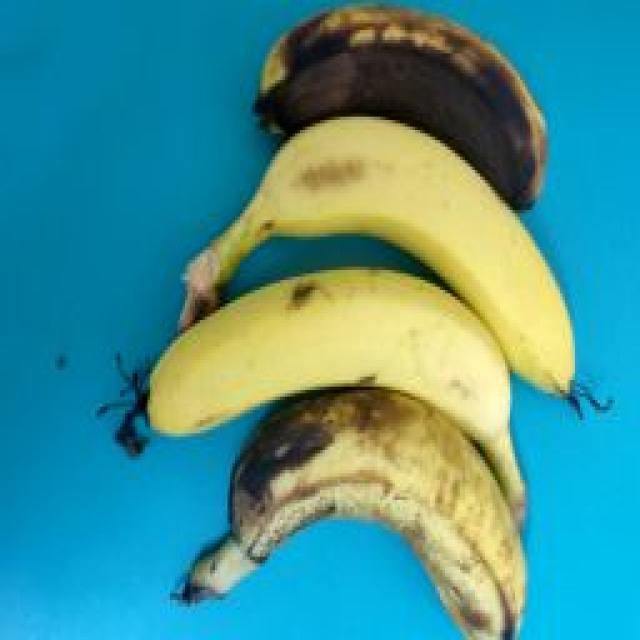Wet: (162, 386, 528, 636), (249, 0, 552, 213)
